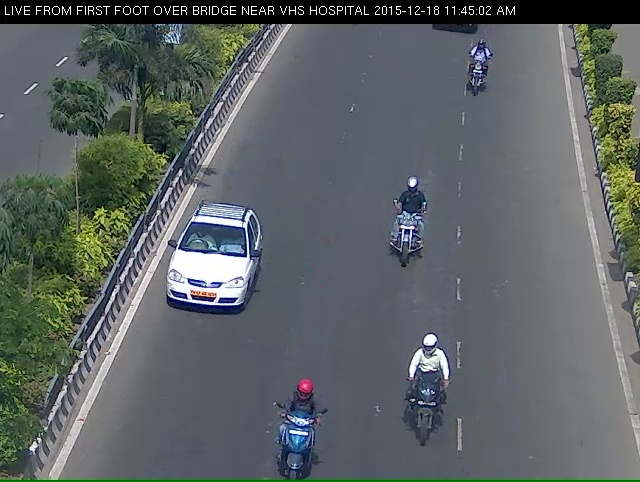Car: (150, 210, 261, 346)
Person: (393, 355, 455, 481), (380, 192, 426, 289), (461, 43, 492, 103)
